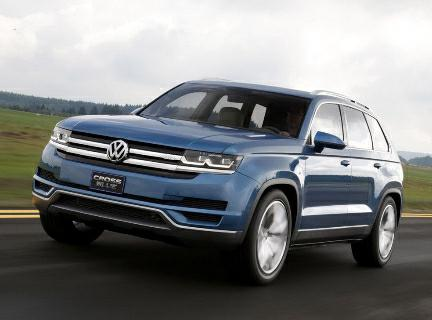大众-CrossBlue: (28, 67, 412, 291)
